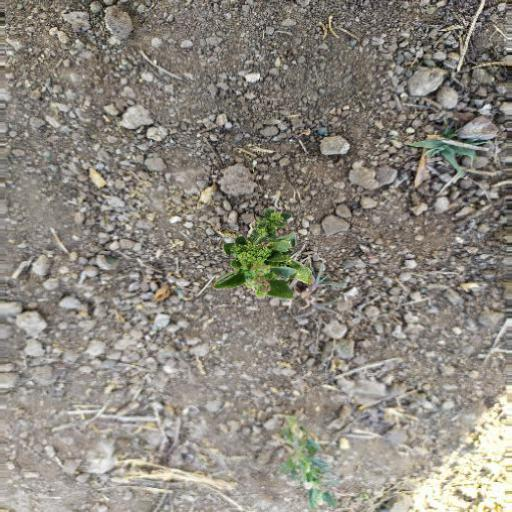crop: (214, 202, 325, 314)
